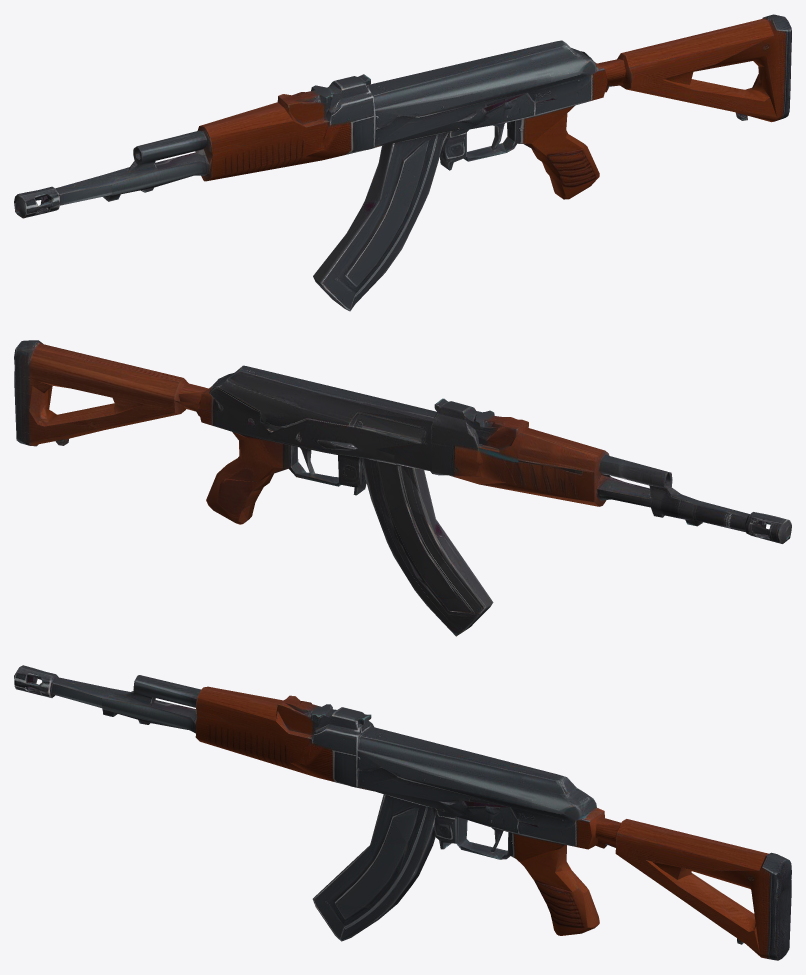
Rendered from BS_Weapon_AK47Rifle_final.glb.
The picture shows the model from 3 angles, top to bottom: view 1: azimuth 30°, elevation 25°; view 2: azimuth 150°, elevation 25°; view 3: azimuth 330°, elevation 25°; orthographic projection.
Bounding box in the file's own units: 1.9 × 0.5354 × 0.0983.
1 material, 1 textured.
